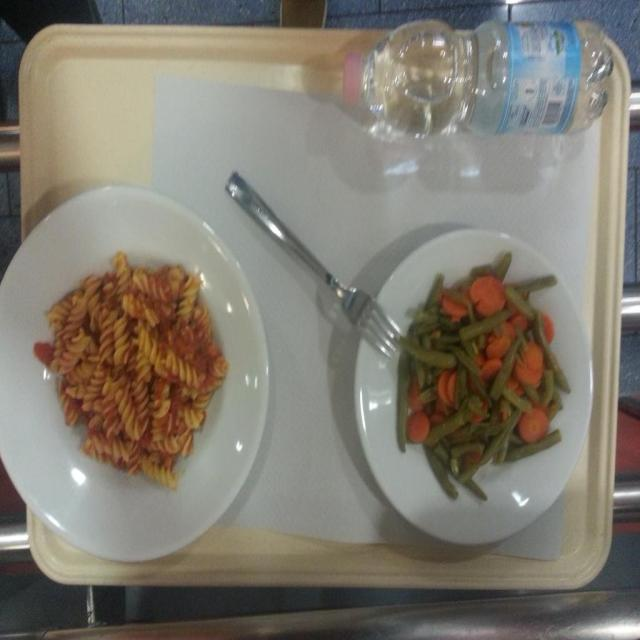plate: (1, 182, 268, 562), (361, 226, 591, 549)
